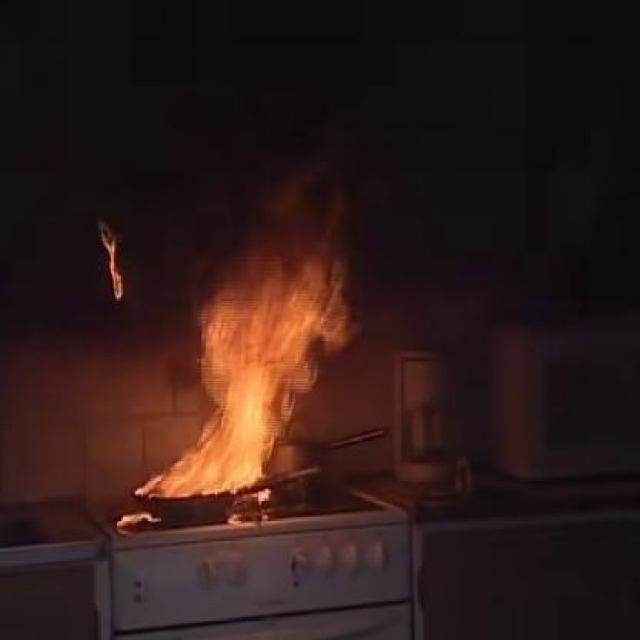fire: (137, 214, 366, 486)
